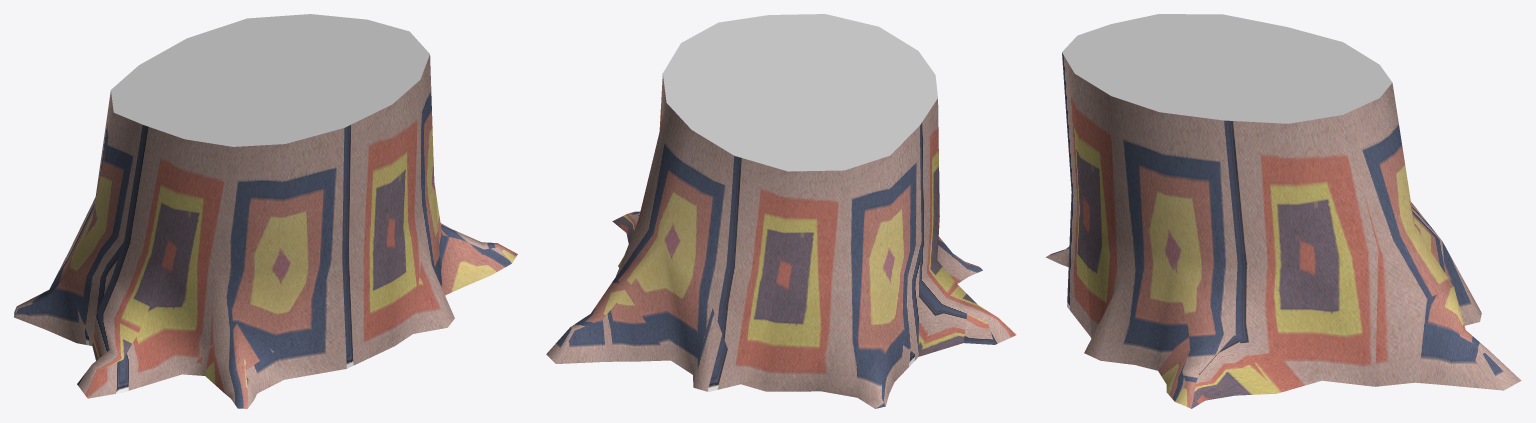
The picture shows the model from 3 angles, left to right: view 1: azimuth 30°, elevation 25°; view 2: azimuth 150°, elevation 25°; view 3: azimuth 270°, elevation 25°; orthographic projection. The views are drawn at different scales.
Visible parts, largest first — view 1: Joint_0_Object_0, Joint_0_Object_1; view 2: Joint_0_Object_0, Joint_0_Object_1; view 3: Joint_0_Object_0, Joint_0_Object_1.
Boxes of the visible parts, x1,y1,x2,y2 form: Joint_0_Object_0: [14, 55, 517, 408]; Joint_0_Object_1: [111, 14, 429, 146]; Joint_0_Object_0: [546, 74, 1016, 408]; Joint_0_Object_1: [663, 14, 937, 171]; Joint_0_Object_0: [1045, 53, 1521, 408]; Joint_0_Object_1: [1062, 14, 1392, 123].
Bounding box in the file's own units: 1643 × 991 × 1484.
